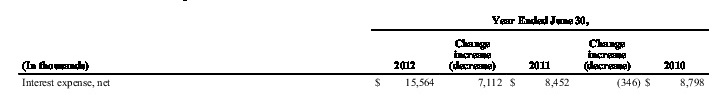table: (0, 0, 723, 102)
